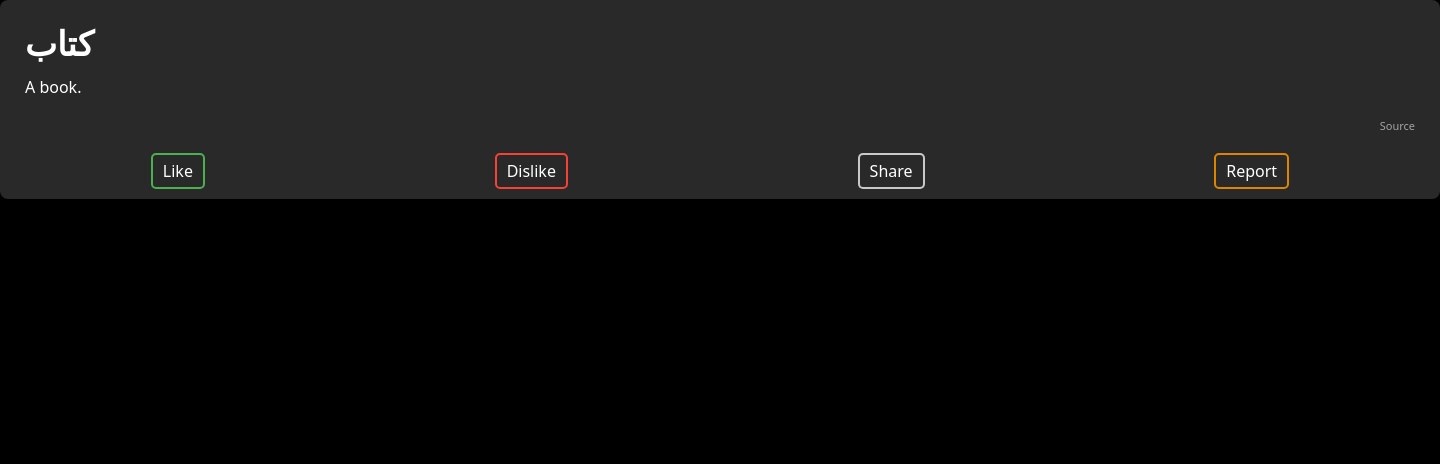
Test: source credits › keeps credits collapsed with readable access to original authorship and the import profile
Click the heading "Source". click: (1397, 125)
box: [1380,113,1415,137]
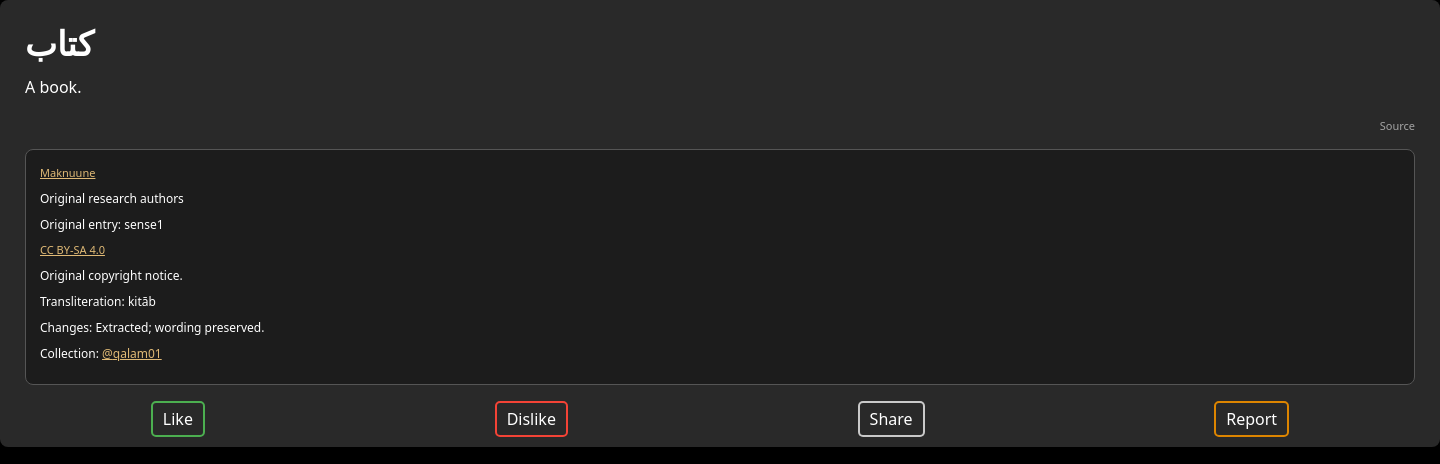
Check: the text "Transliteration: kitāb" is shown, box [40,293,156,310]
